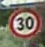limite 30: (7, 8, 41, 39)
